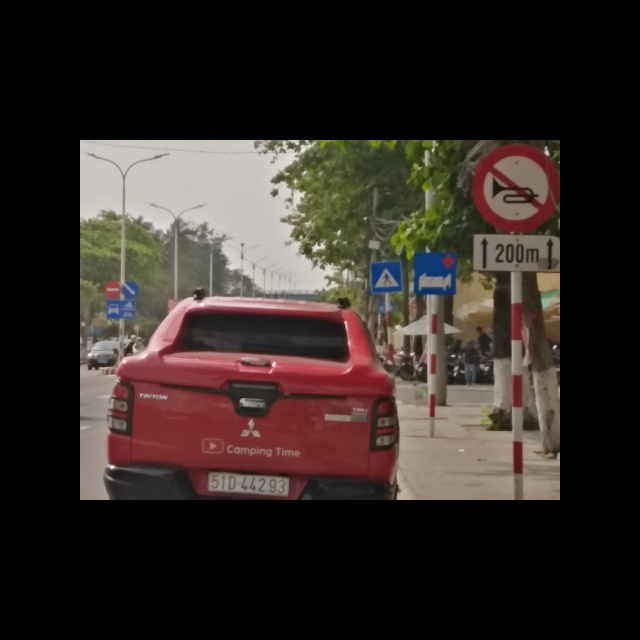Bệnh viện: (414, 253, 455, 299)
Cấm bấm còi: (473, 143, 560, 232)
Đường dành cho người đi bộ: (366, 262, 403, 294)
